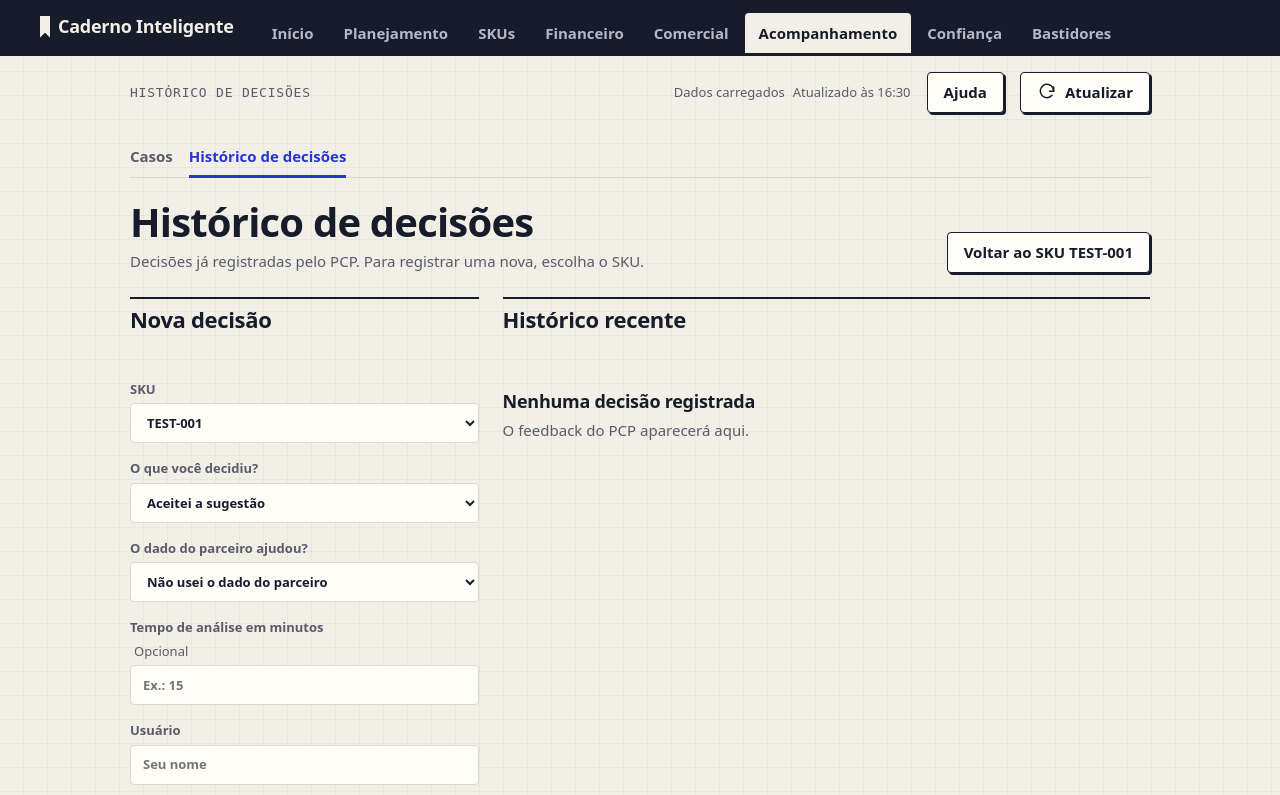
Test: formulários por teclado › tempo de análise informado é enviado como número; erro do servidor é exibido
The image size is (1280, 795).
Step 1. Type "15" into the number field labelled "Tempo de análise em minutos Opcional" → (304, 685), box [130,665,479,705]
(page scrolled)
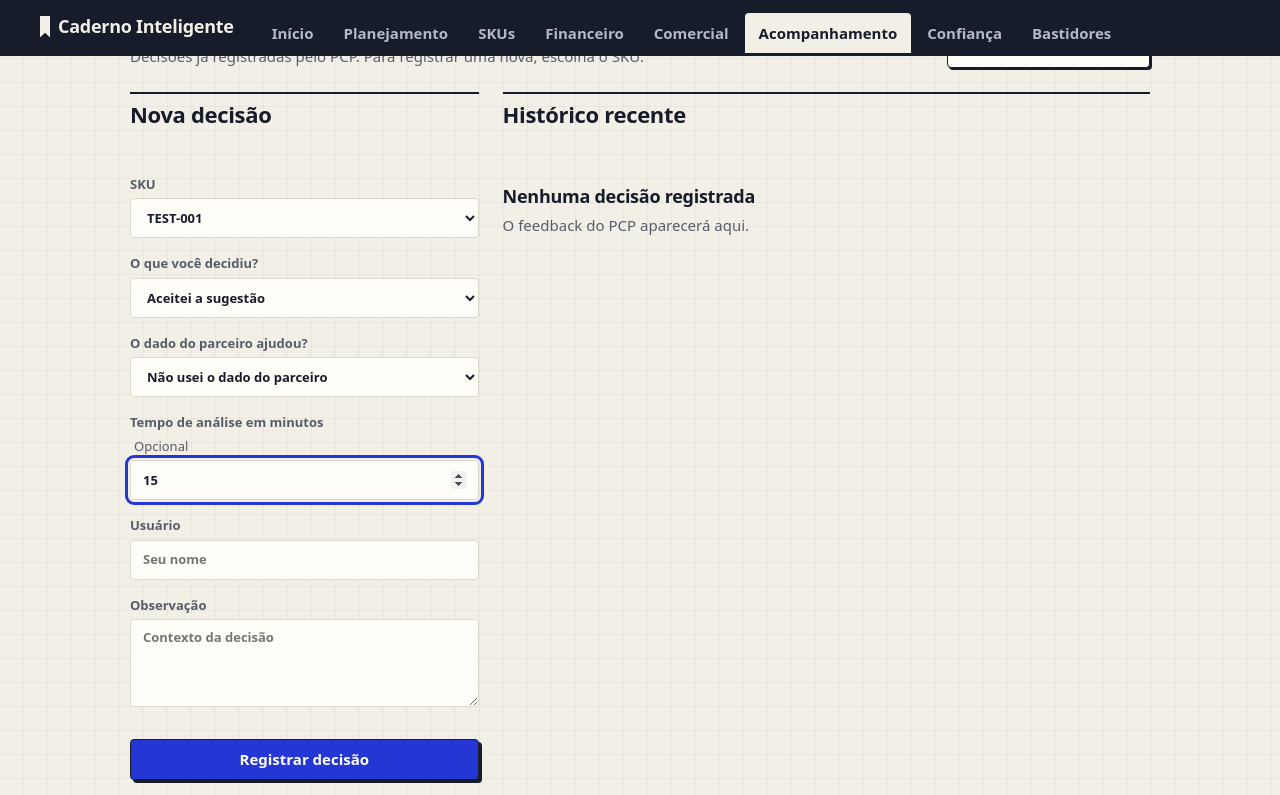
Step 2. Click the button "Registrar decisão" → (304, 760), box [130,739,479,780]
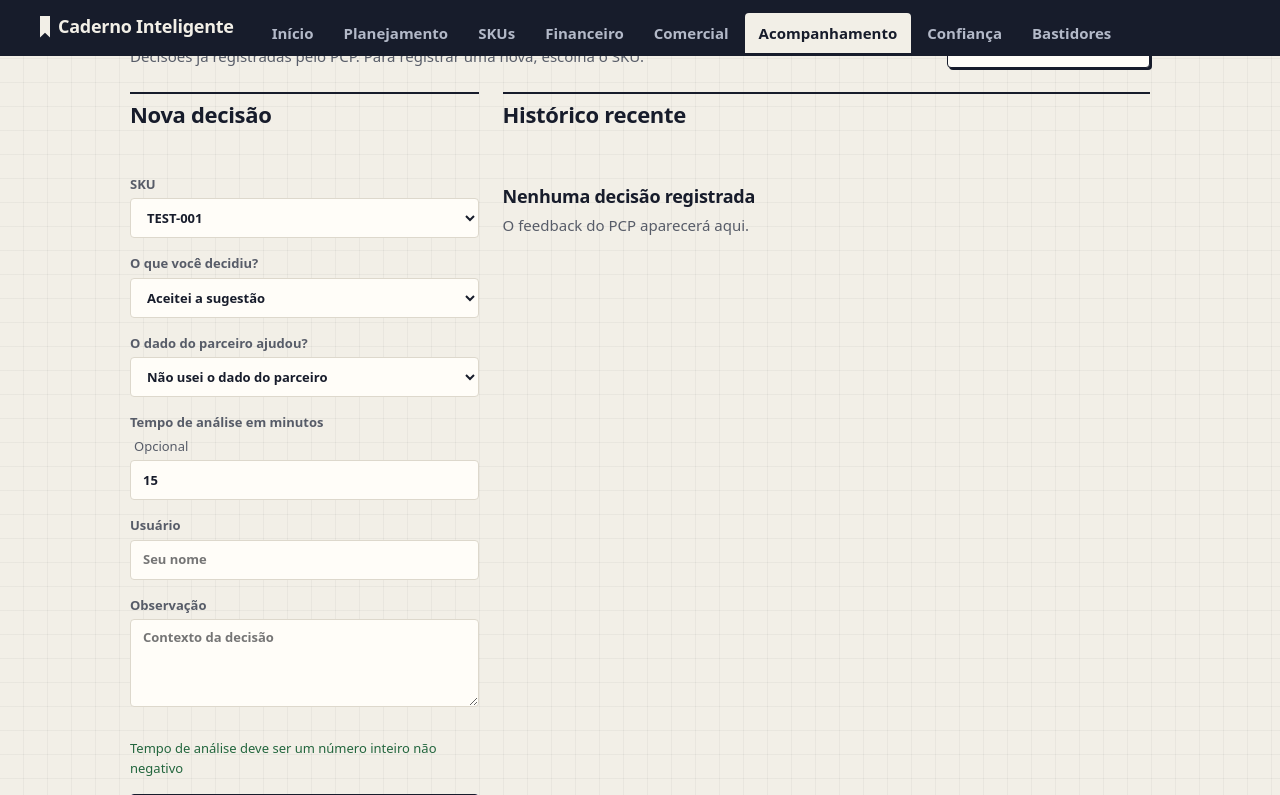
Now the text "Tempo de análise deve ser um número inteiro não negativo" is shown, box [130,739,479,778]
